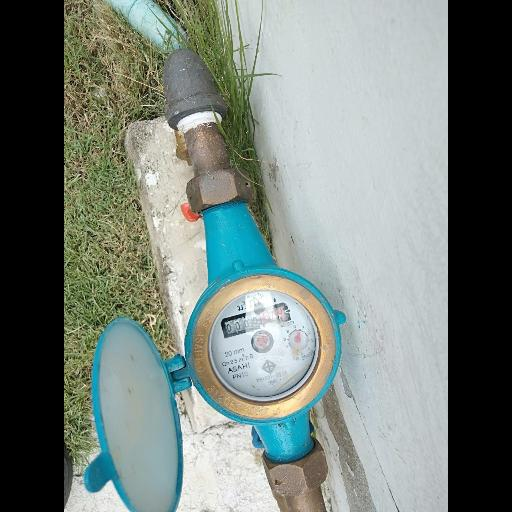0: (276, 305, 288, 323), (224, 320, 237, 335), (233, 317, 245, 332), (242, 315, 254, 330), (250, 313, 262, 328)
4: (259, 310, 272, 325)
7: (267, 308, 279, 322)
border_water_meter_number: (219, 302, 291, 339)
